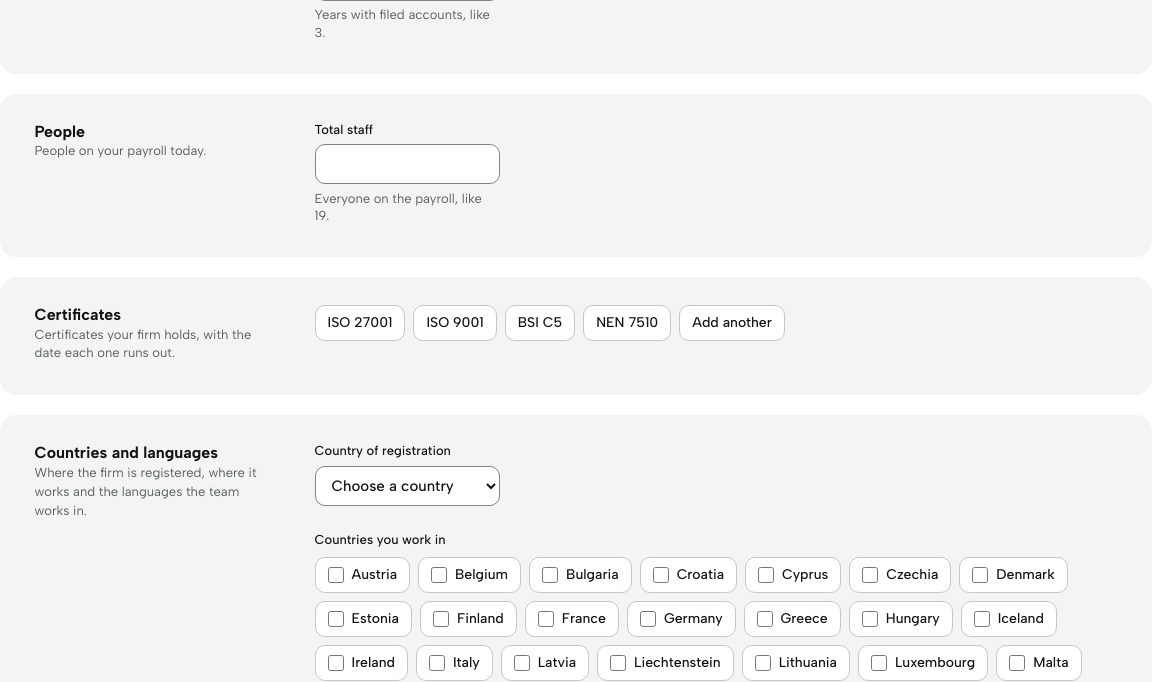
Test: ProfileForm, values and errors › asks for a name before adding another certificate
(page scrolled)
Click the button "Add another" at (732, 323), box [679, 305, 785, 341]
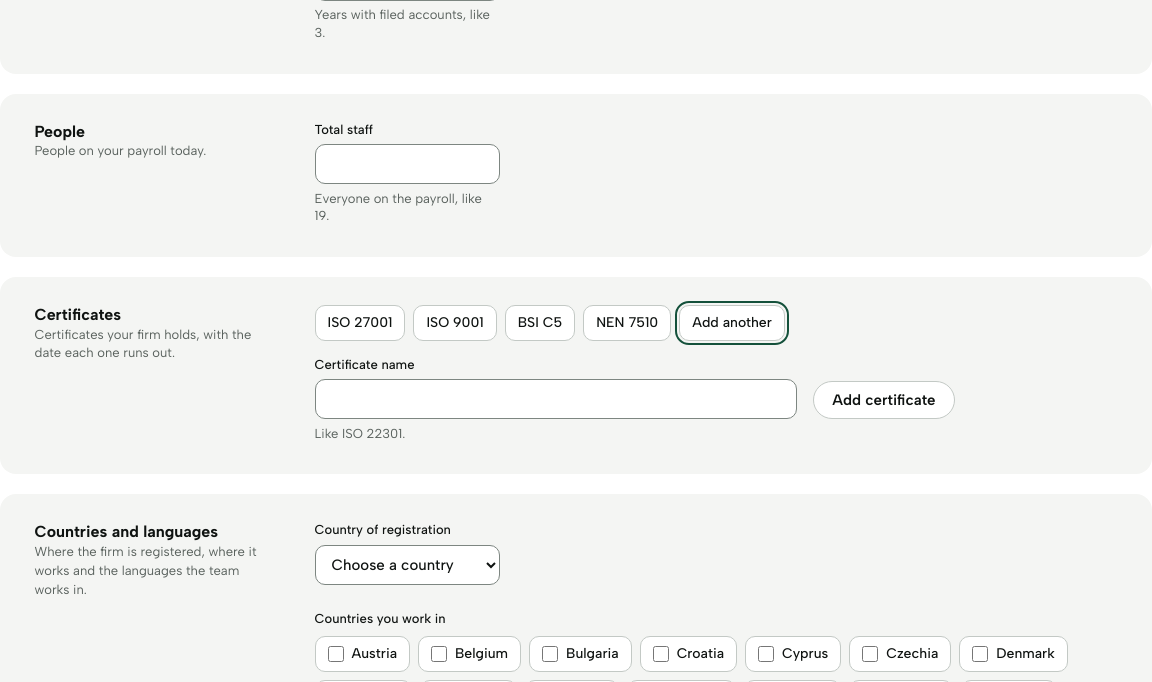
Click the button "Add certificate" at (884, 400), box [813, 381, 955, 419]
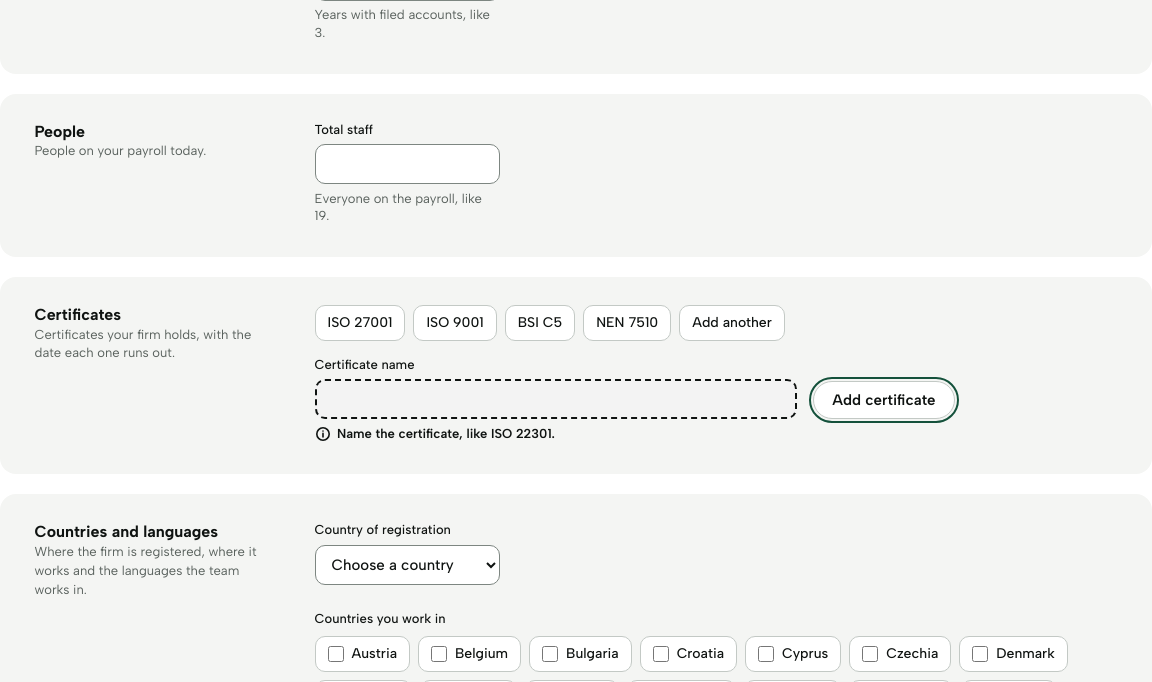
Expected: the text "Name the certificate, like ISO 22301." is shown, [337, 425, 555, 442]
